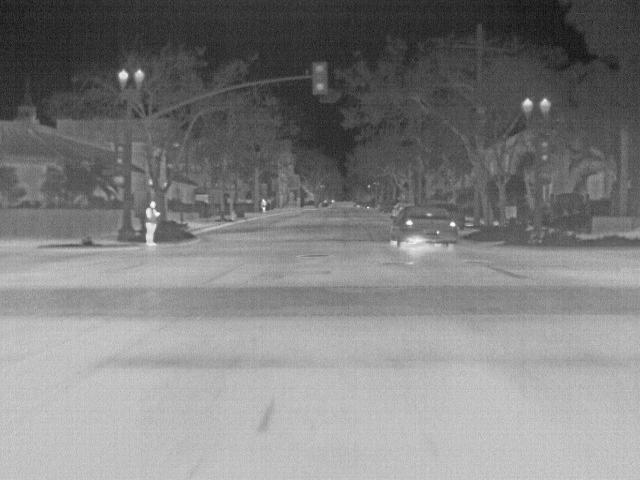car: (388, 206, 458, 252), (446, 209, 466, 231), (391, 200, 407, 216)
person: (145, 198, 160, 248), (261, 198, 268, 210)
